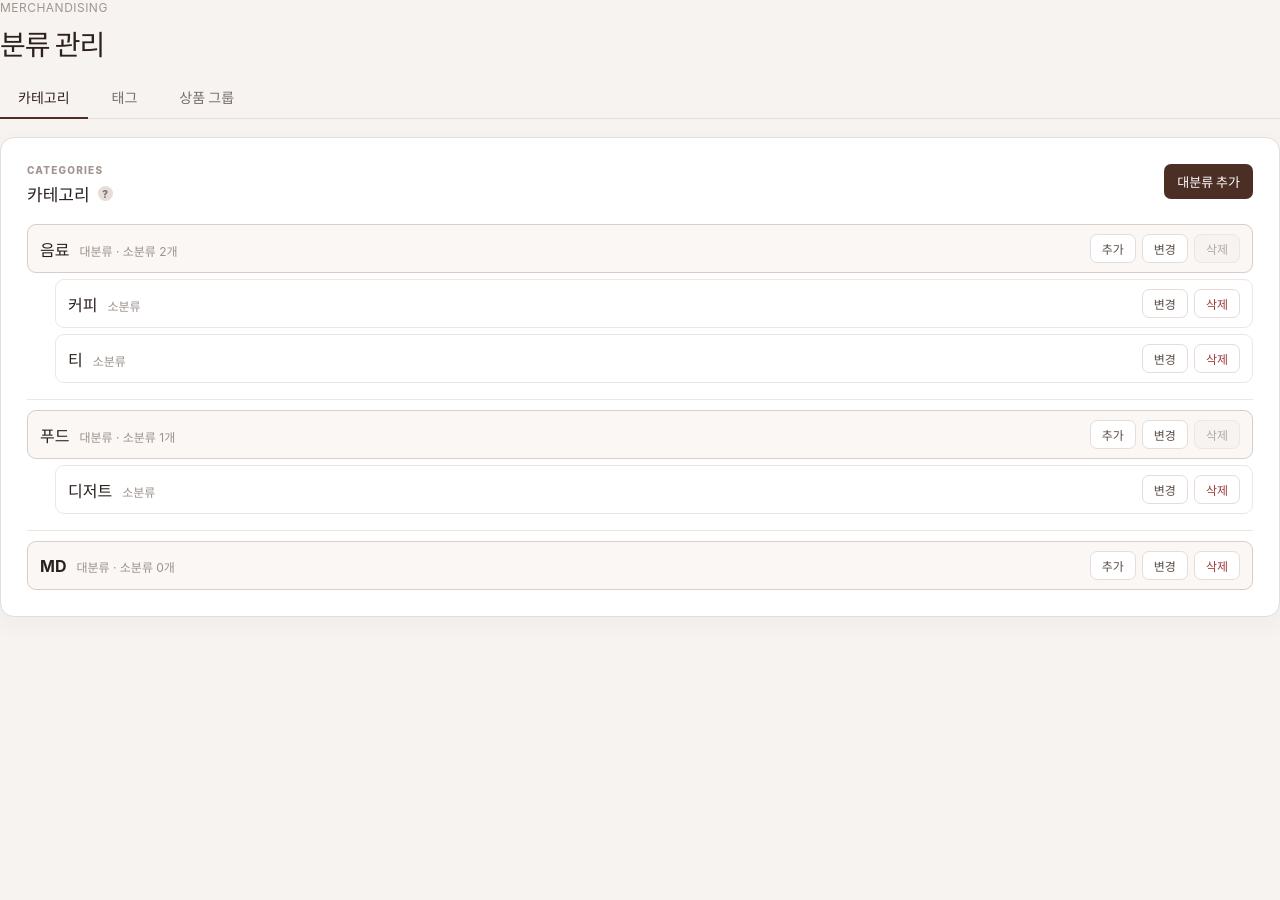
Test: 카테고리 › 이름과 부모를 함께 바꾸면 부모를 먼저 바꾼 뒤 이름을 바꾸고 토스트로 알린다
Click the button with aria-label "변경 · 커피": (1165, 304) x1=1142 y1=289 x2=1188 y2=318
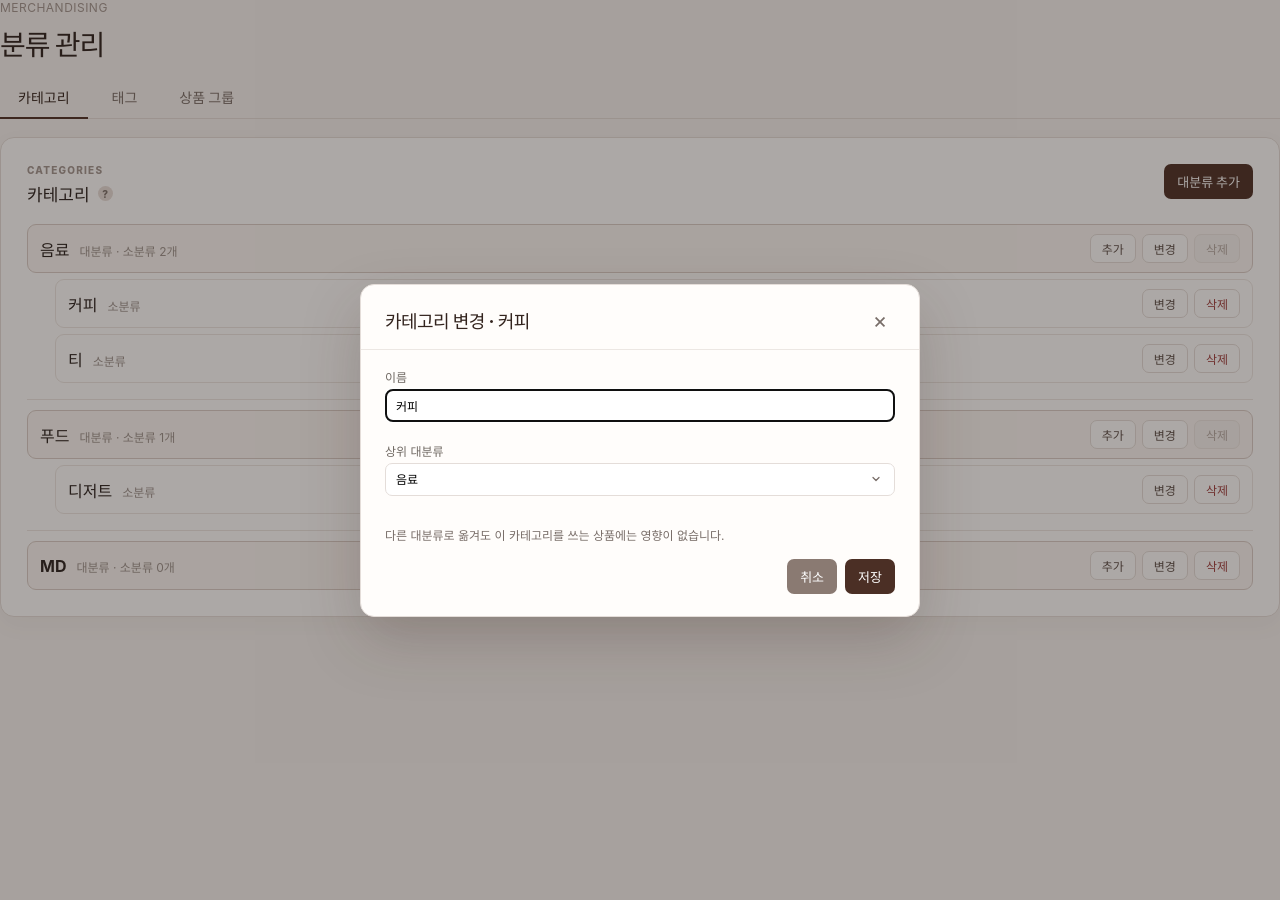
Replace the text in the field labelled "이름" with "에스프레소": (640, 405) x1=385 y1=388 x2=895 y2=422
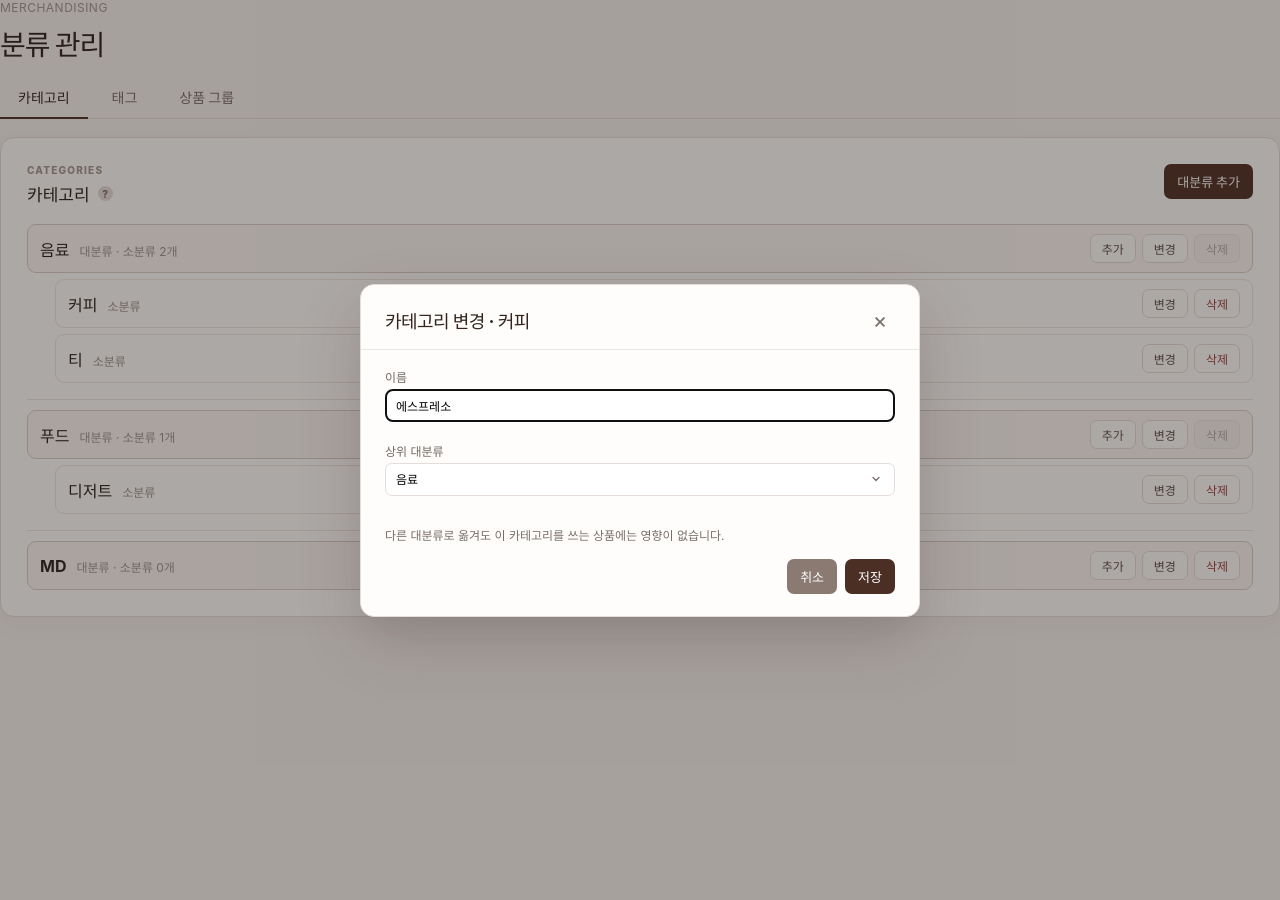
Select "푸드" in the dropdown labelled "상위 대분류": (640, 479) x1=385 y1=462 x2=895 y2=496
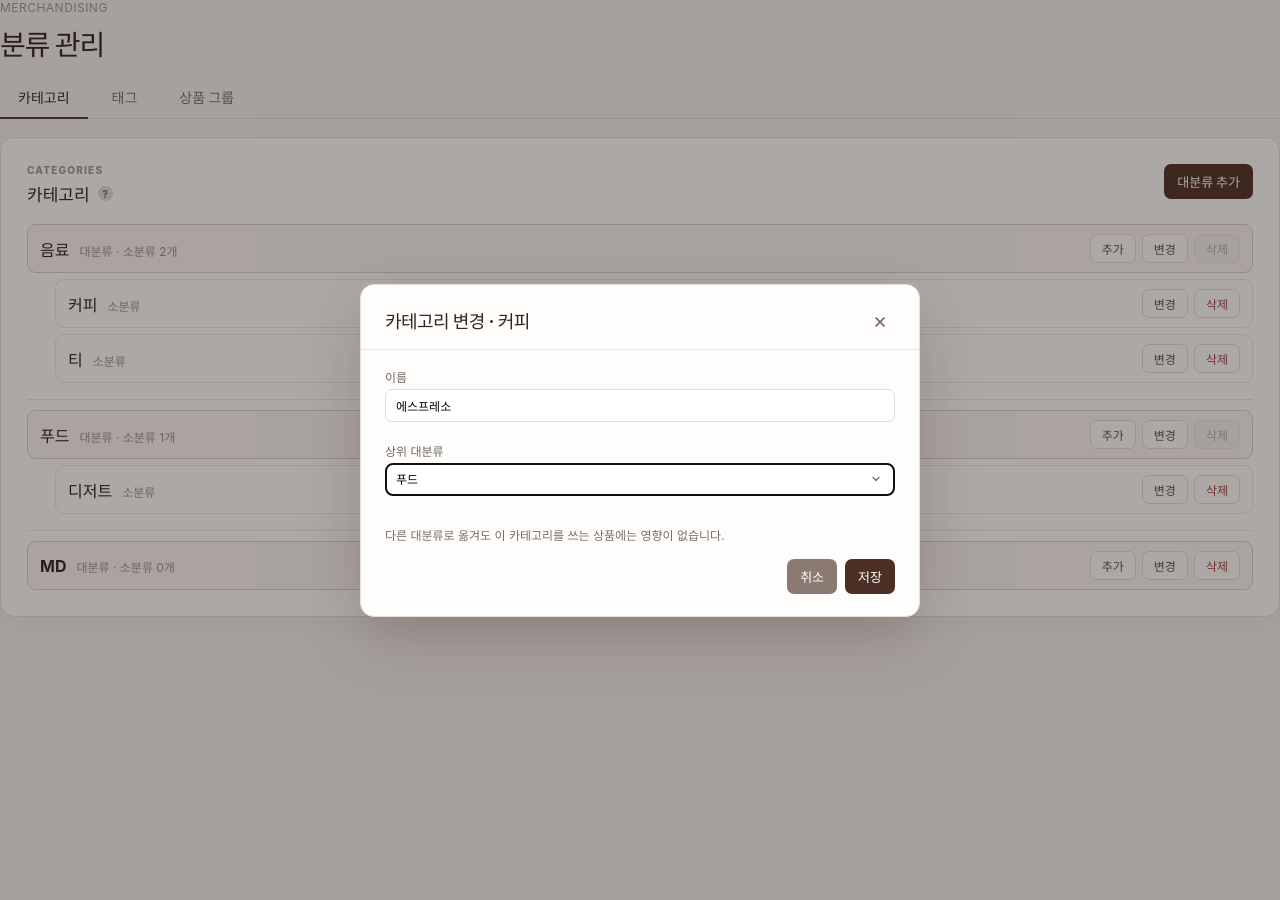
Click the button "저장": (870, 576) x1=845 y1=558 x2=895 y2=594
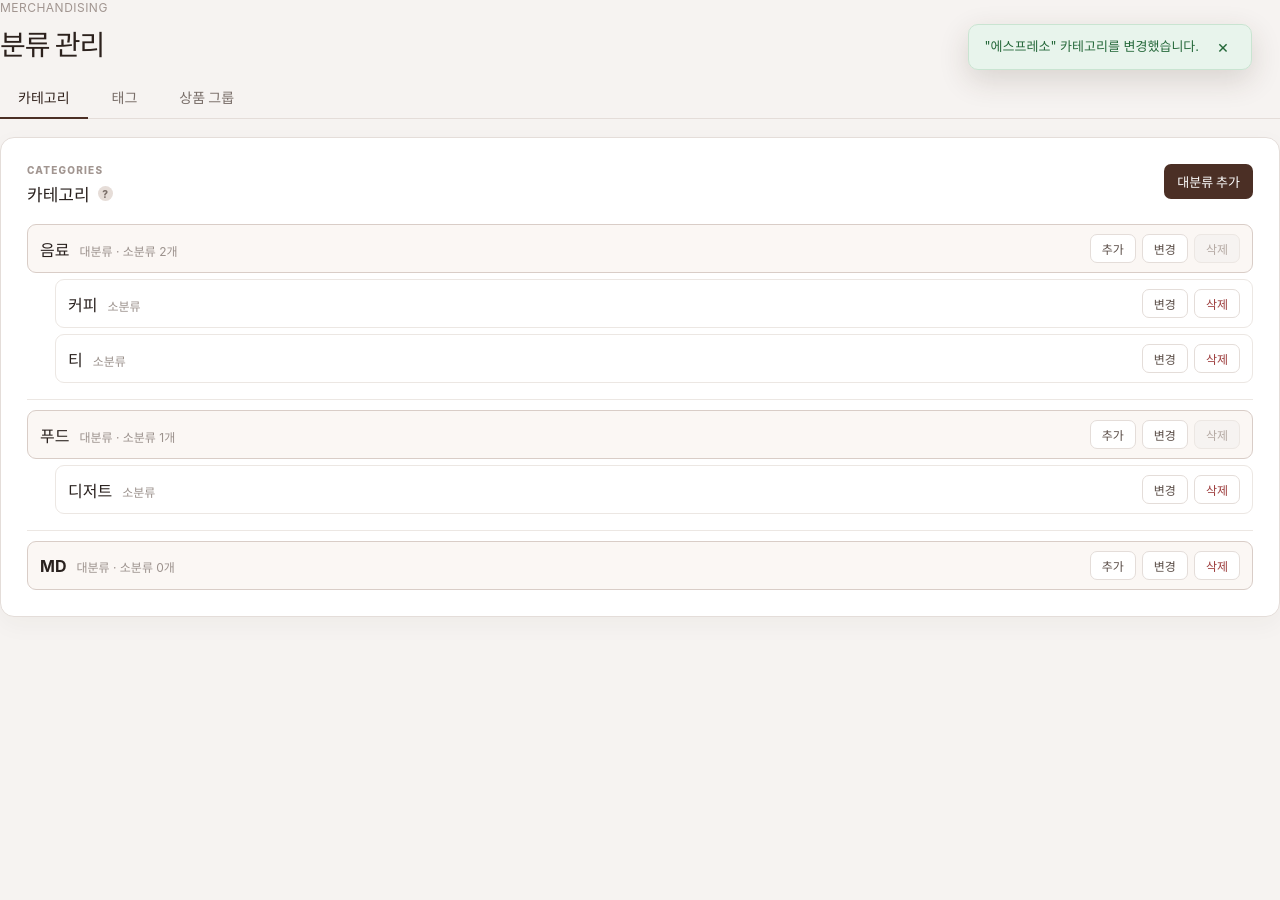
Expected: the text "\"에스프레소\" 카테고리를 변경했습니다." is shown, x1=984 y1=38 x2=1199 y2=54
